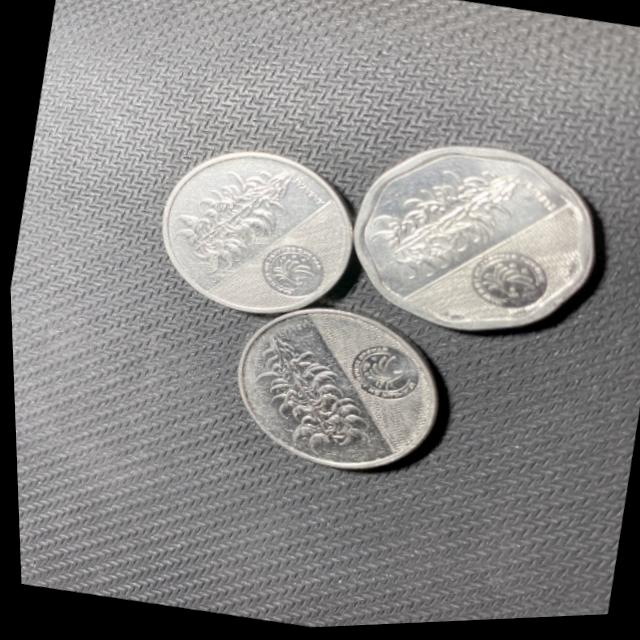5_New_Back: (358, 147, 547, 303), (226, 323, 389, 468), (167, 155, 304, 285)
